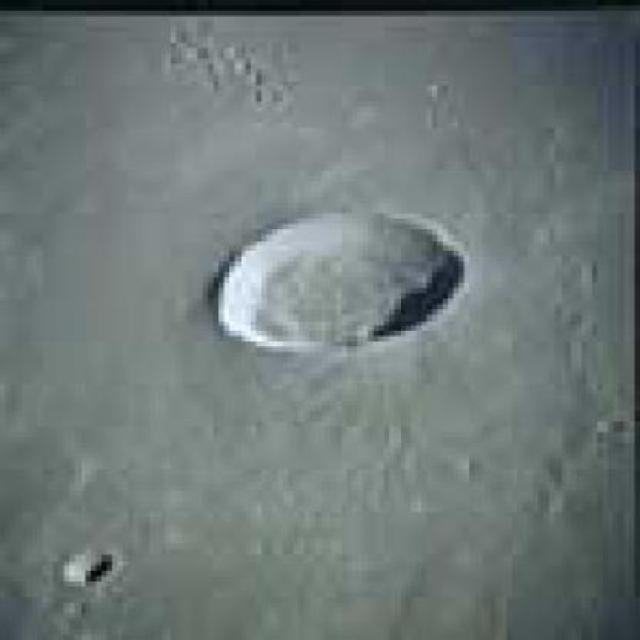crater: (218, 212, 468, 354), (65, 550, 120, 588)
